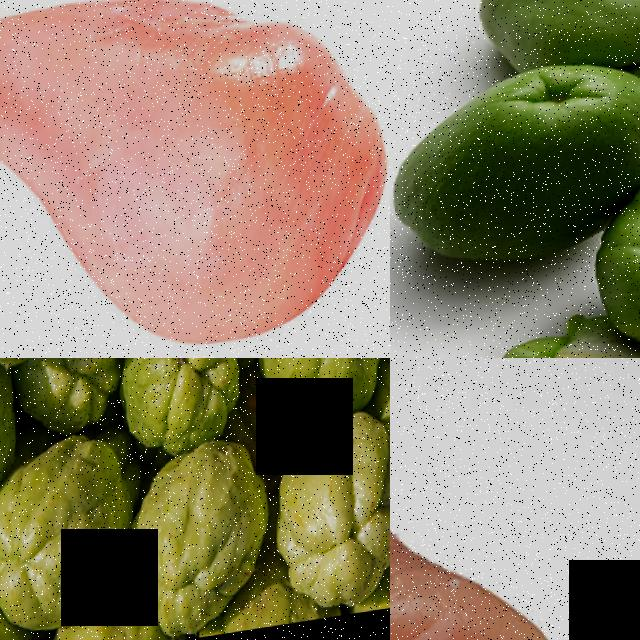chayote: (390, 56, 640, 259), (0, 444, 140, 622), (265, 427, 390, 623), (150, 463, 279, 635), (397, 0, 640, 70), (125, 358, 247, 452), (246, 358, 390, 423)
chicken breast: (0, 0, 390, 358), (390, 358, 640, 640)
